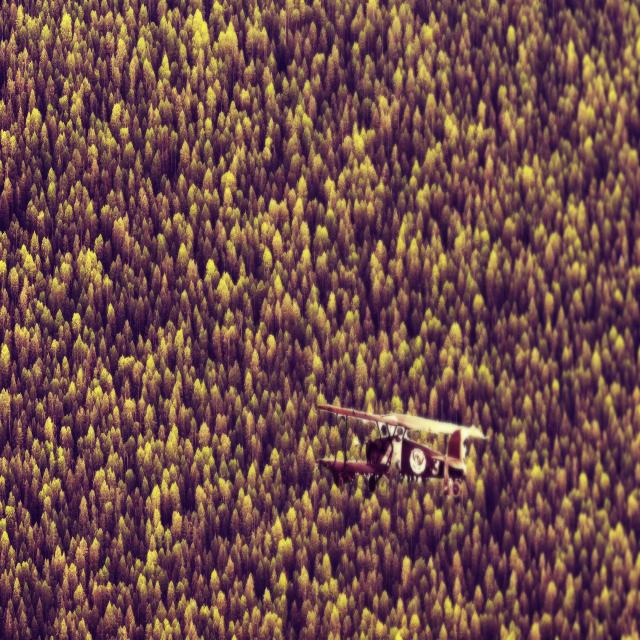airplane: (314, 402, 490, 499)
